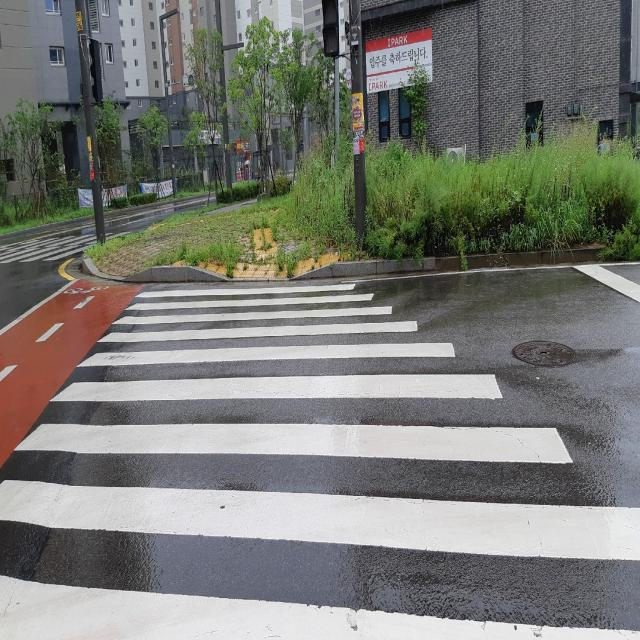횡단보도: (0, 279, 640, 640)
